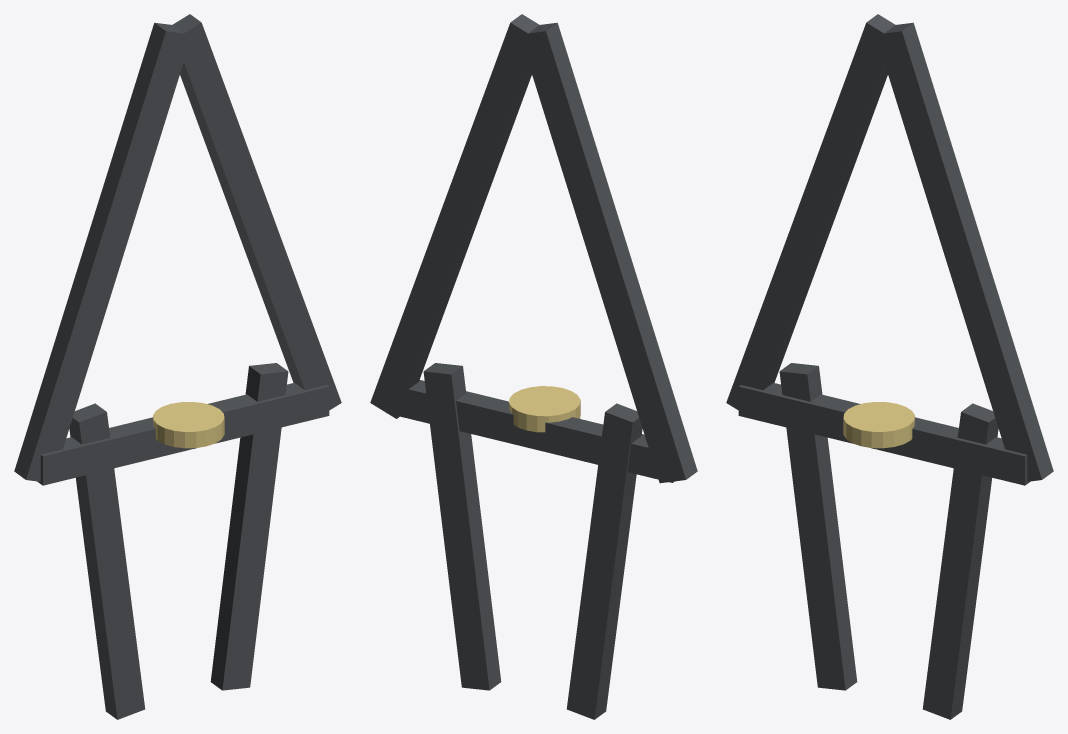
File: harness_lod0.glb
3 renders of one model, left to right at view 1: azimuth 30°, elevation 25°; view 2: azimuth 150°, elevation 25°; view 3: azimuth 330°, elevation 25°, orthographic.
Parts seen in each view (by area): view 1: strap-upper--1, strap-upper-1, strap-lower-1, strap-lower--1, waist, ring; view 2: strap-upper--1, strap-upper-1, strap-lower-1, strap-lower--1, waist, ring; view 3: strap-upper-1, strap-upper--1, strap-lower--1, strap-lower-1, waist, ring.
Boxes of the visible parts, bbox=[...] form: strap-upper--1: bbox=[14, 22, 191, 481]; strap-upper-1: bbox=[172, 14, 341, 410]; strap-lower-1: bbox=[210, 363, 288, 690]; strap-lower--1: bbox=[69, 403, 145, 719]; waist: bbox=[37, 383, 329, 485]; ring: bbox=[153, 402, 224, 448]; strap-upper--1: bbox=[520, 22, 697, 483]; strap-upper-1: bbox=[370, 14, 539, 418]; strap-lower-1: bbox=[423, 363, 501, 690]; strap-lower--1: bbox=[566, 403, 642, 719]; waist: bbox=[386, 380, 674, 482]; ring: bbox=[509, 386, 580, 432]; strap-upper-1: bbox=[876, 22, 1053, 481]; strap-upper--1: bbox=[726, 14, 895, 410]; strap-lower--1: bbox=[779, 363, 857, 690]; strap-lower-1: bbox=[922, 403, 998, 719]; waist: bbox=[738, 383, 1030, 485]; ring: bbox=[843, 402, 914, 448].
Size of the model in its own units: 1.02 by 2.08 by 0.2.
